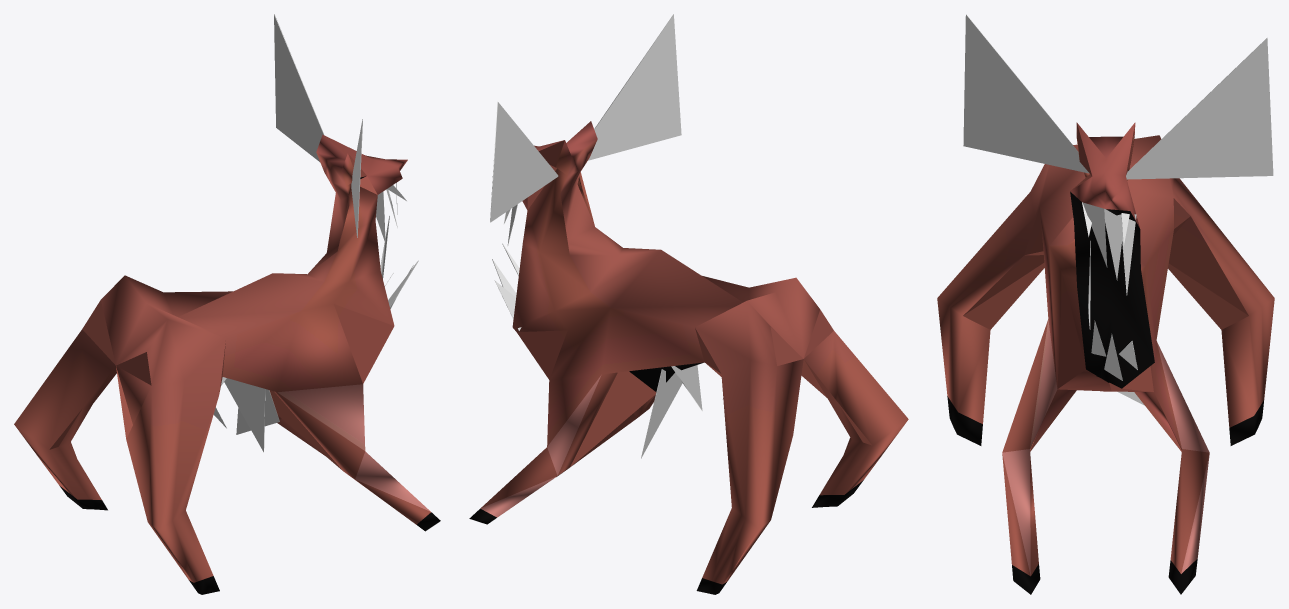
File: evil_enemy.glb
The picture shows the model from 3 angles, left to right: view 1: azimuth 30°, elevation 25°; view 2: azimuth 150°, elevation 25°; view 3: azimuth 270°, elevation 25°; orthographic projection. The views are drawn at different scales.
Parts seen in each view (by area): view 1: Plane.004; view 2: Plane.004; view 3: Plane.004.
Part boxes in pixels (x1=…): Plane.004: x1=14, y1=14, x2=440, y2=594; Plane.004: x1=469, y1=14, x2=908, y2=594; Plane.004: x1=937, y1=14, x2=1274, y2=594.
Bounding box in the file's own units: 5.9 × 7.67 × 4.5.
1 material, 1 textured.
